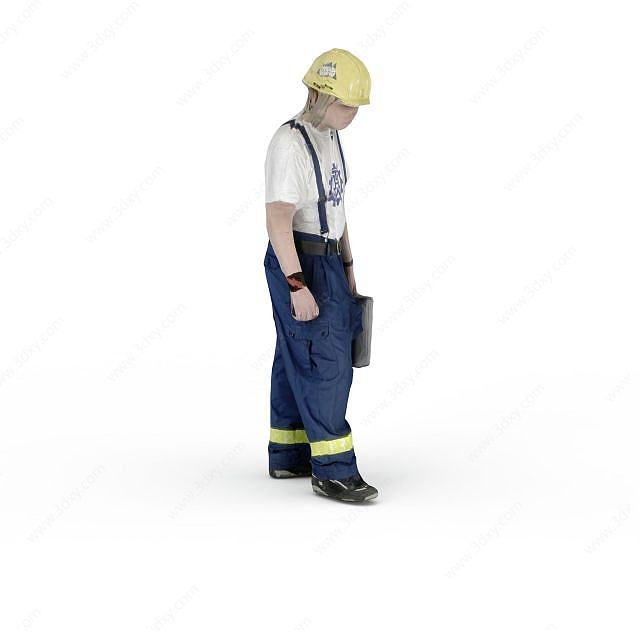safetyhat: (239, 34, 414, 507)
